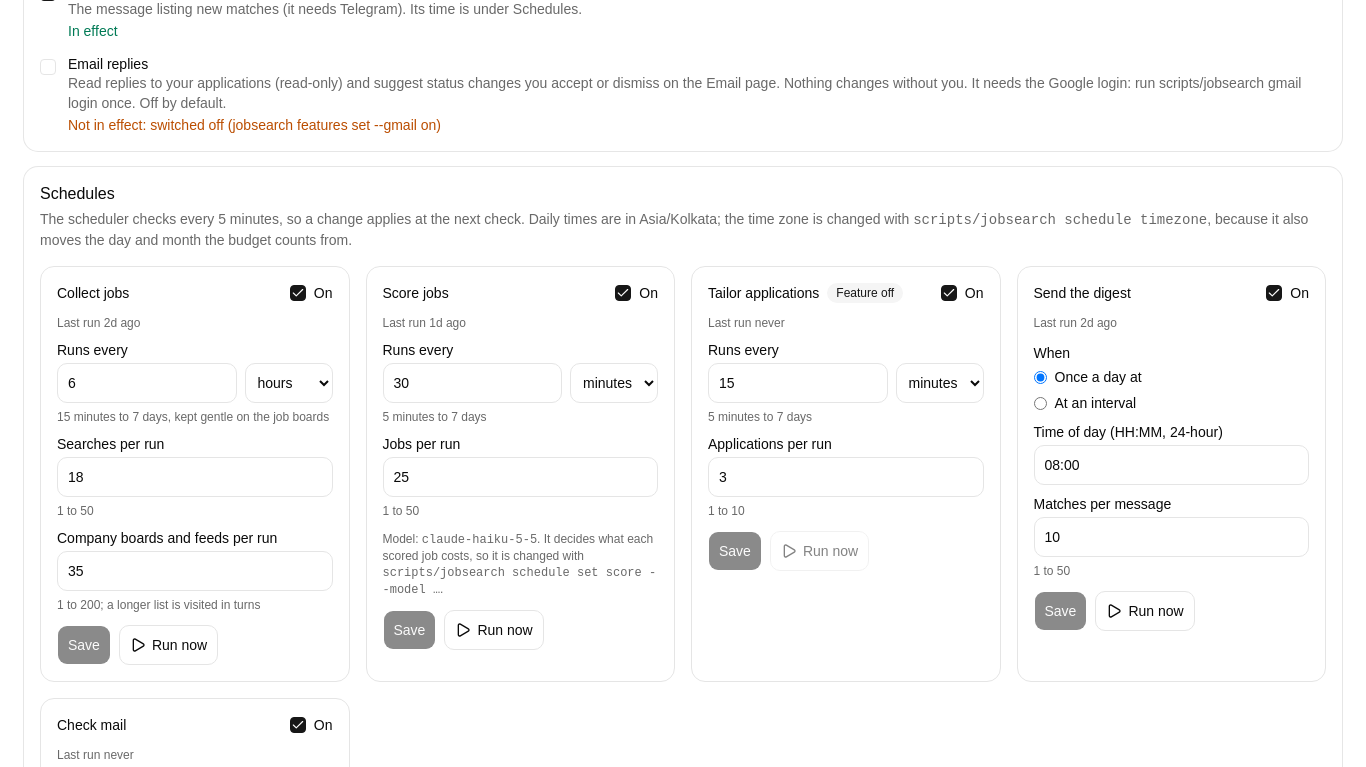
Test: schedules › saves only what changed, with the write header, and shows the page the server sends back
This screenshot has width=1366, height=767.
(page scrolled)
Expected: the button "Save" below "claude-haiku-5-5" is disabled, [382,610,436,650]
Replace the text in the field labelled "Runs every" below "1d ago" with "1": x=472, y=383 [382,363,562,403]
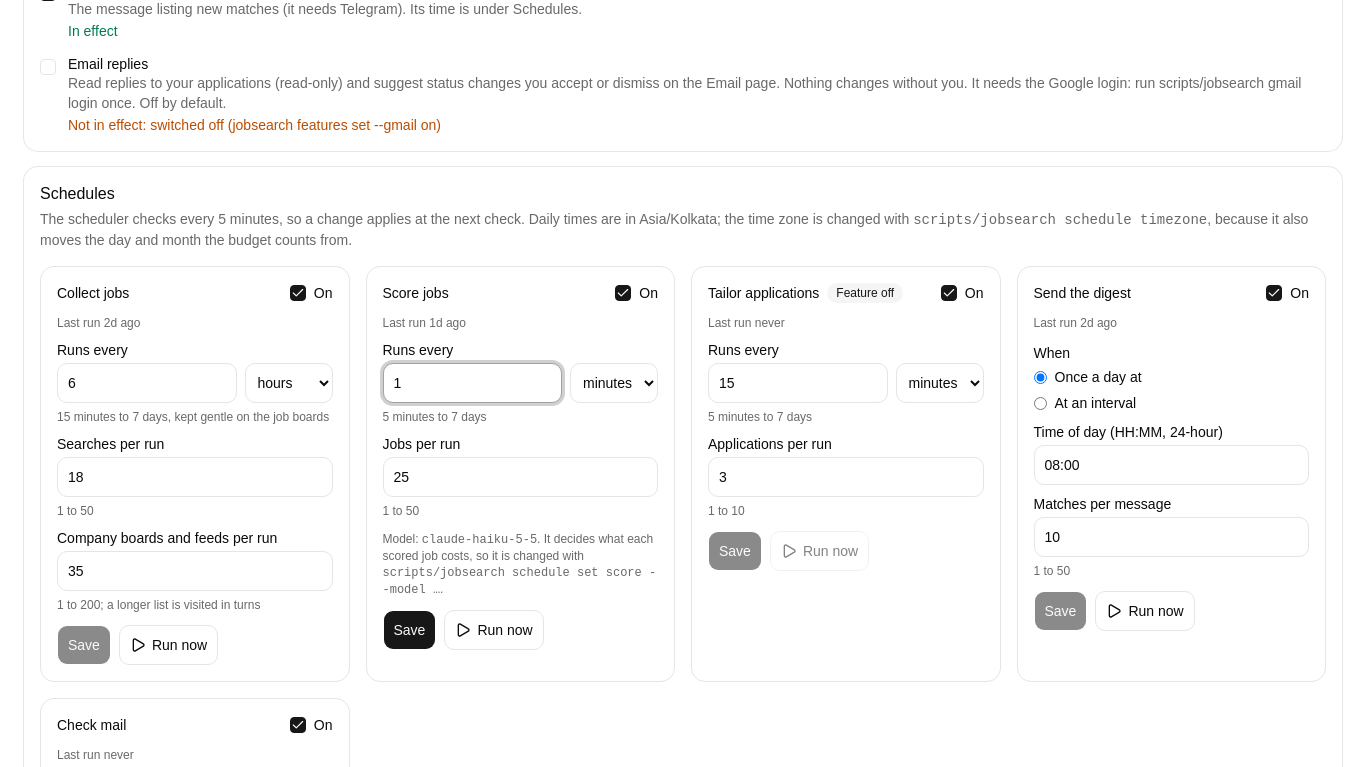
Select "hours" in the dropdown named "Unit" below "1d ago": x=614, y=383 [570,363,658,403]
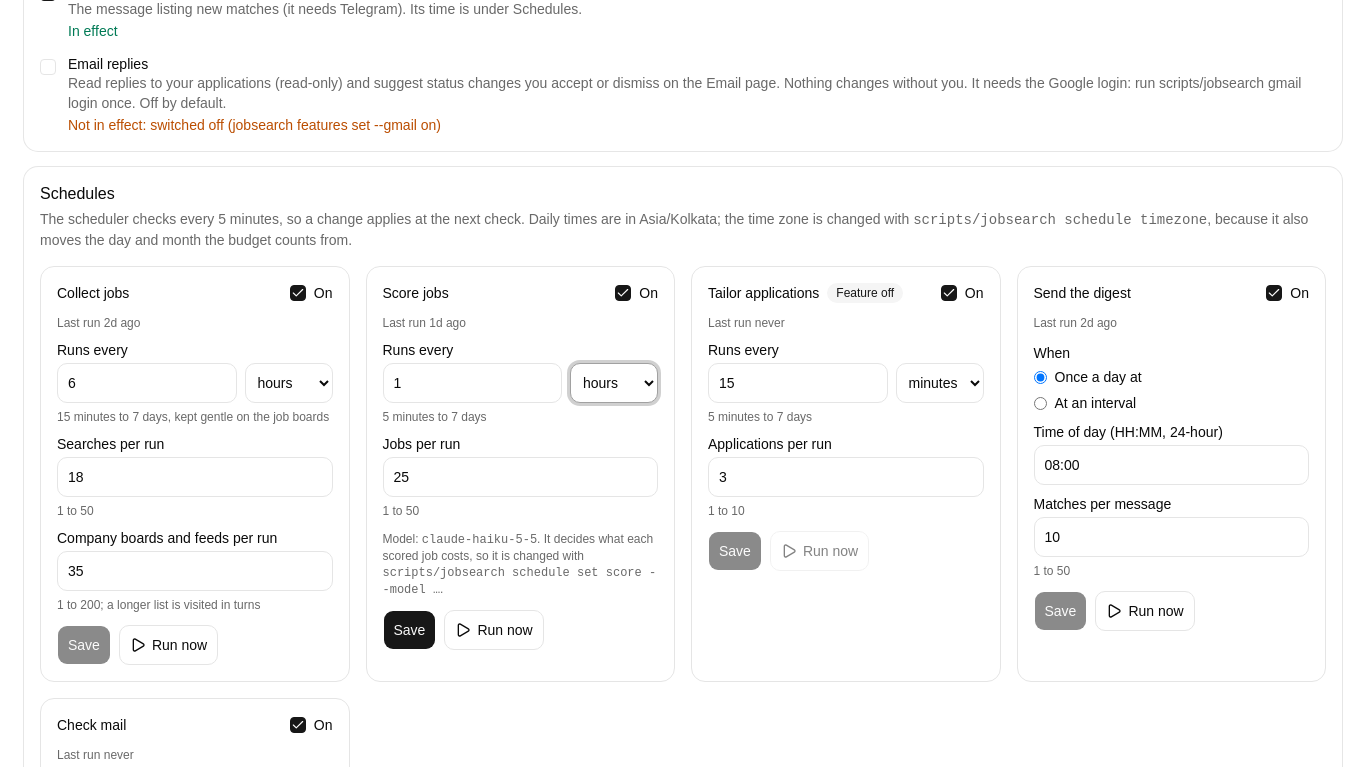
Replace the text in the field labelled "Jobs per run" with "10": x=520, y=477 [382,457,658,497]
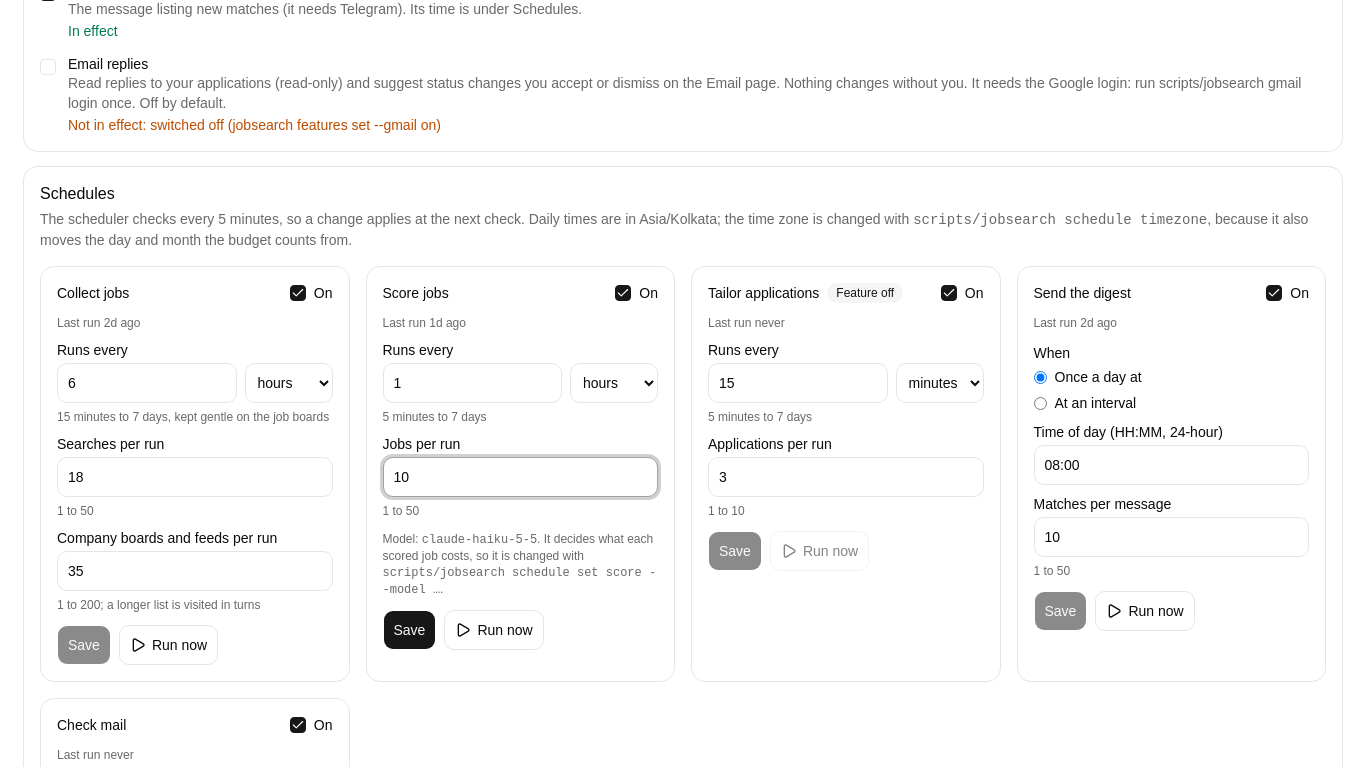
Click the button "Save" below "claude-haiku-5-5": x=409, y=630 [382,610,436,650]
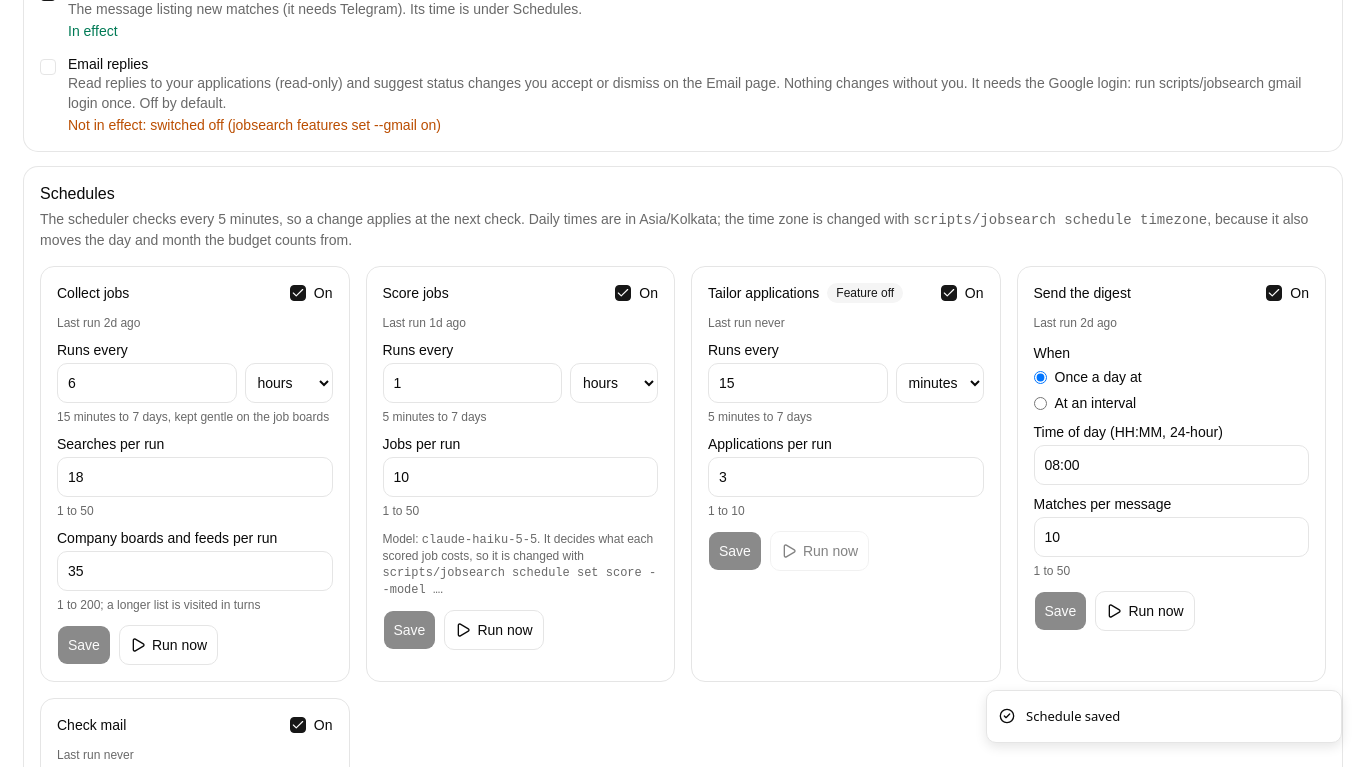
Result: the field labelled "Jobs per run" holds "10" at [382,457,658,497]
Result: the text "Schedule saved" is shown at [1026,706,1120,726]
